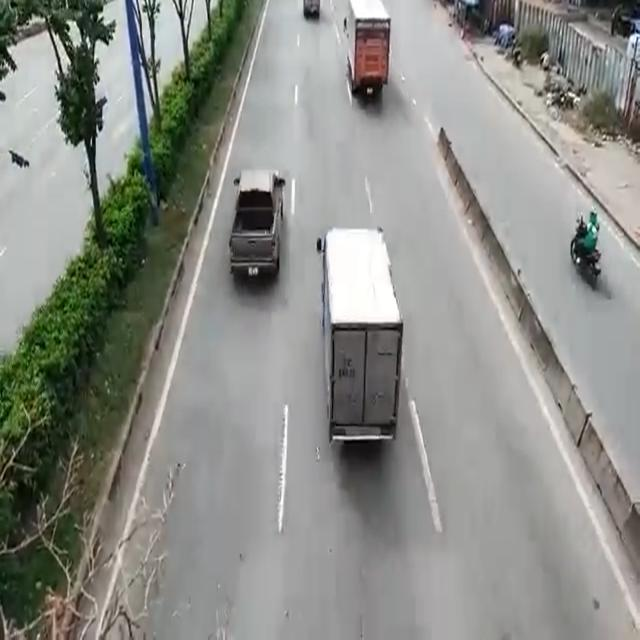car: (230, 173, 282, 290)
motor: (570, 208, 606, 290)
truck: (317, 224, 403, 451), (345, 1, 392, 104)
